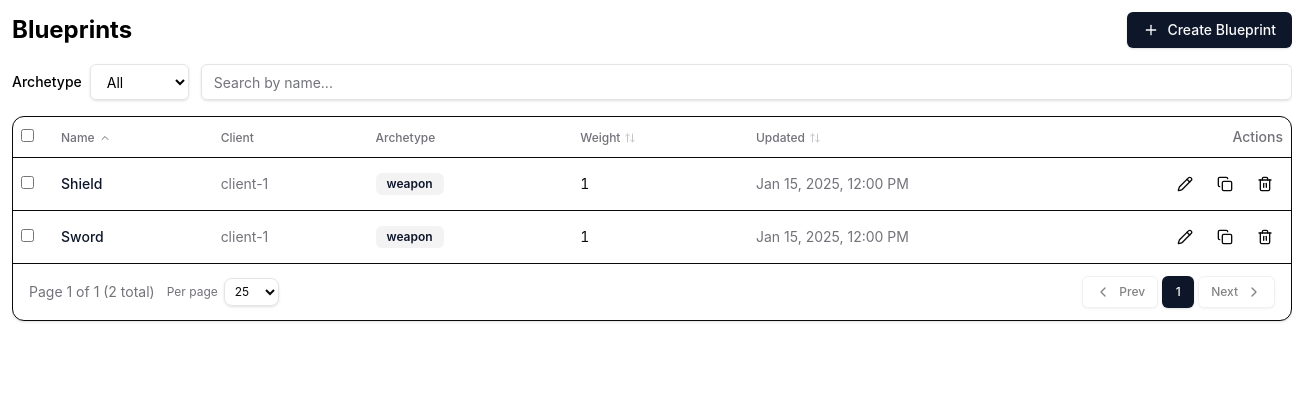
Test: Blueprints list page › header checkbox selects/deselects all visible rows
Click the checkbox named "Select all" at [28, 135], box [21,129,34,142]
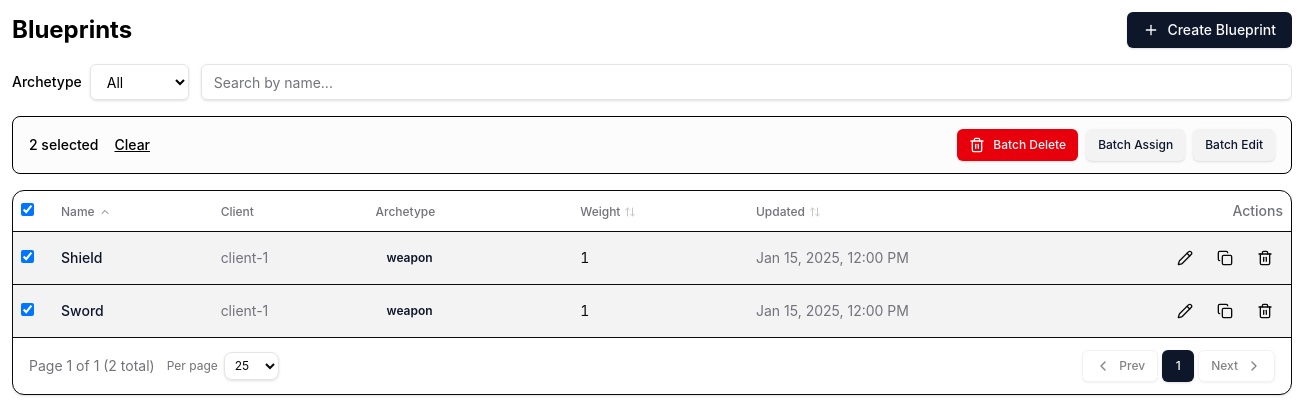
Now the text "2 selected" is shown, box [29,135,98,155]
Click the checkbox named "Select all" at [28, 209], box [21,203,34,216]
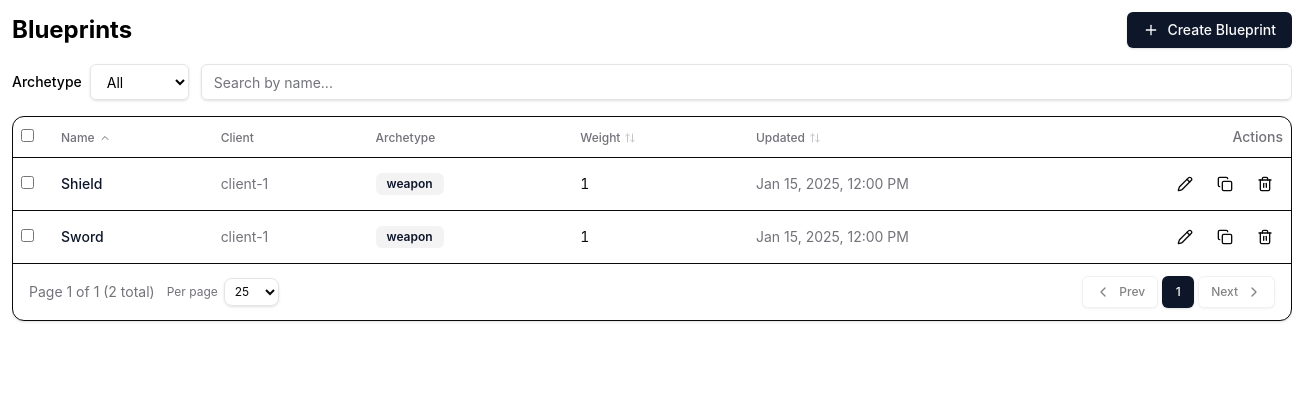
Now the text "selected" is gone
